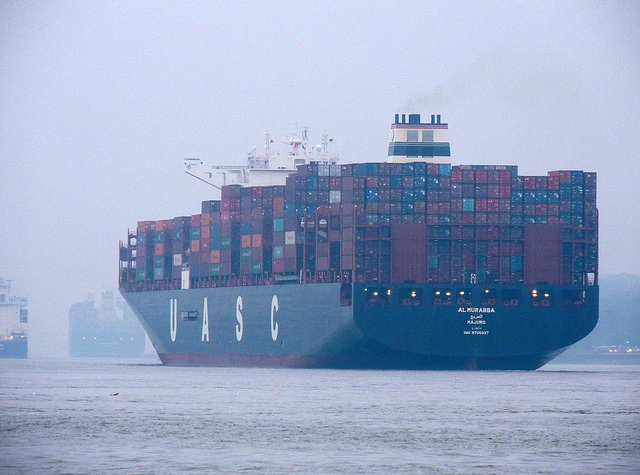container_ship: (116, 116, 597, 371), (68, 289, 144, 359)
